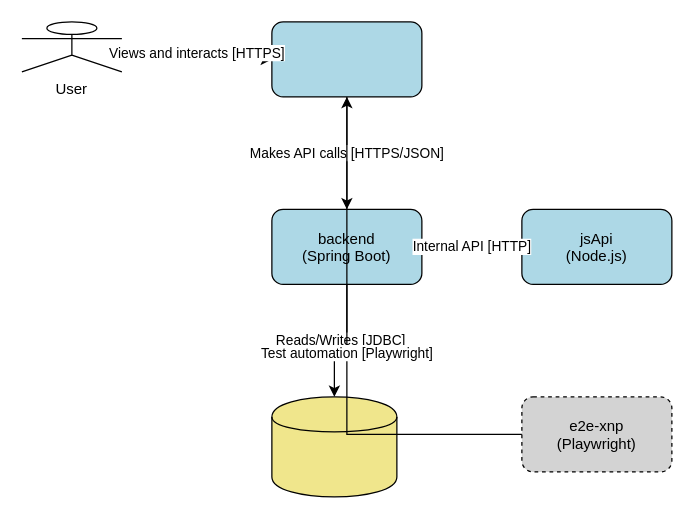
Image size: 694x519. Some labels were removed from this diagram. Each missing label, with the centre of its shape:
"Database" goes at pixel 334 446.
"frontend (Angular)" goes at pixel 346 59.
